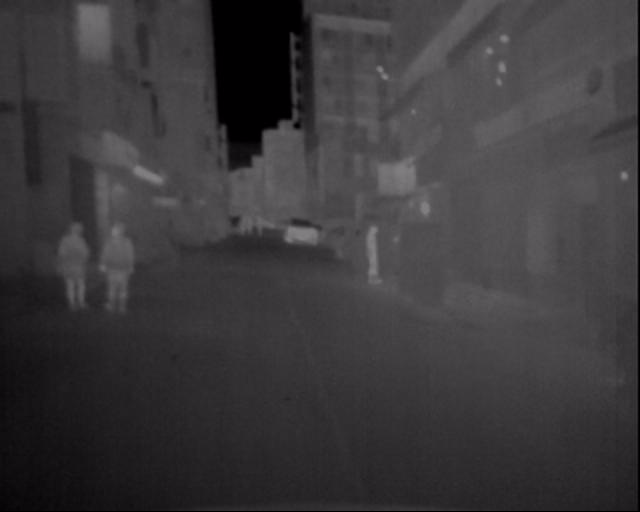person: (44, 211, 93, 337), (87, 213, 135, 333), (357, 212, 388, 290)
